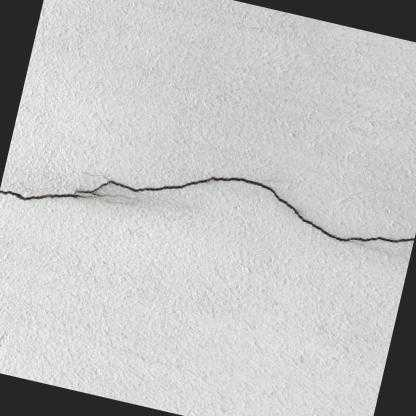crack: (0, 177, 415, 243)
